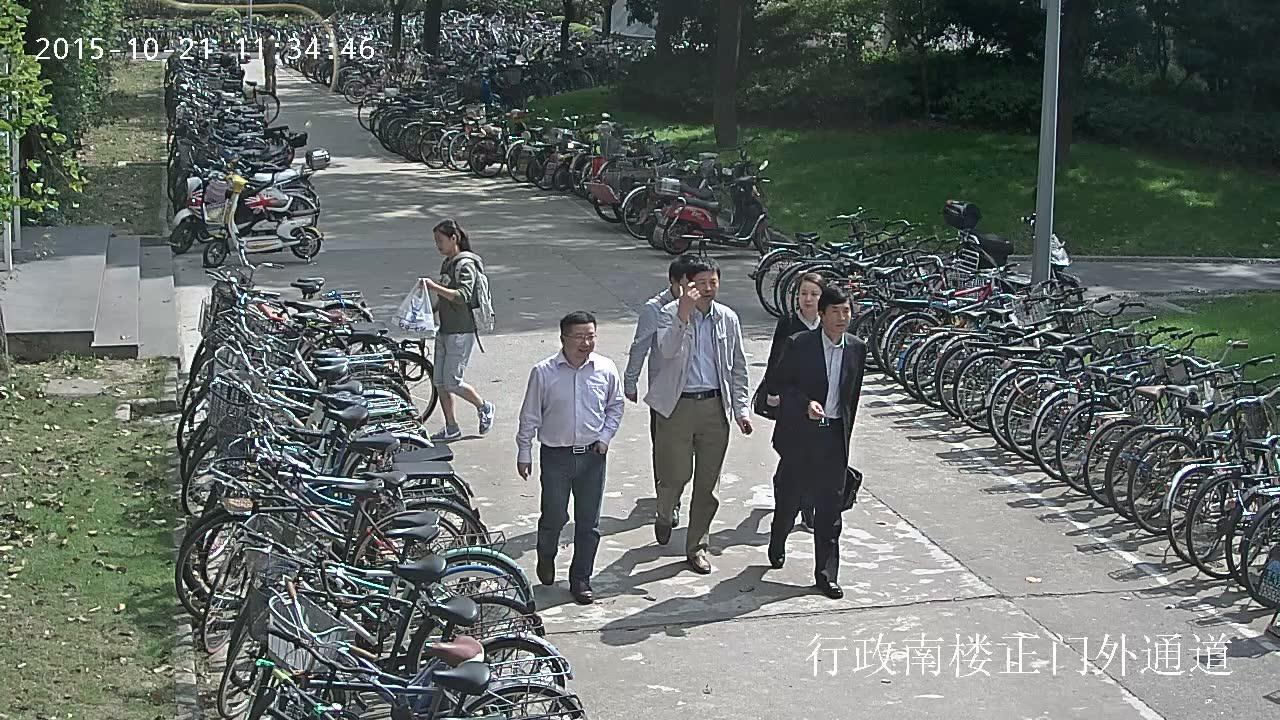person: (643, 254, 751, 573), (516, 310, 625, 603), (769, 288, 866, 599), (390, 216, 495, 441), (751, 273, 823, 530), (623, 255, 700, 402), (263, 28, 276, 94)
